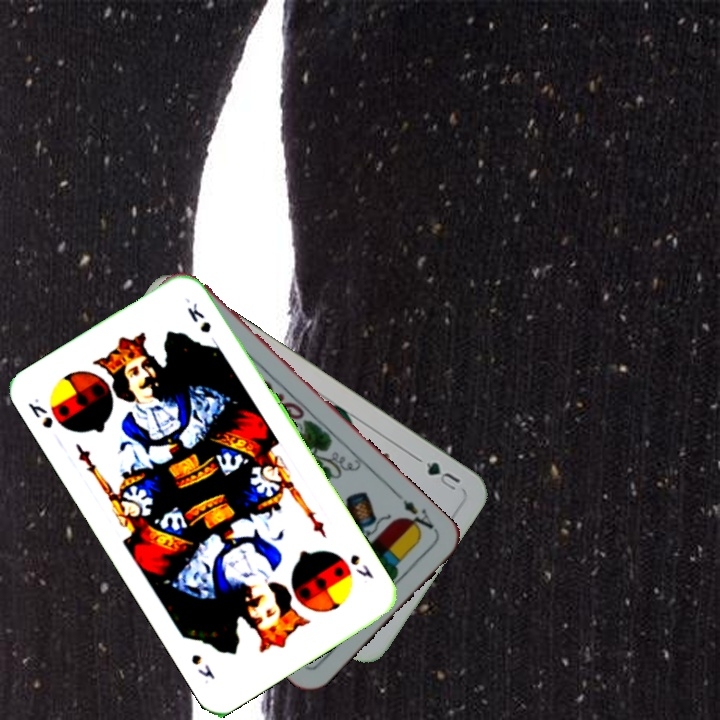EA: (398, 495, 439, 538)
GU: (422, 457, 463, 495)
SK: (24, 394, 56, 432), (346, 550, 376, 582)
